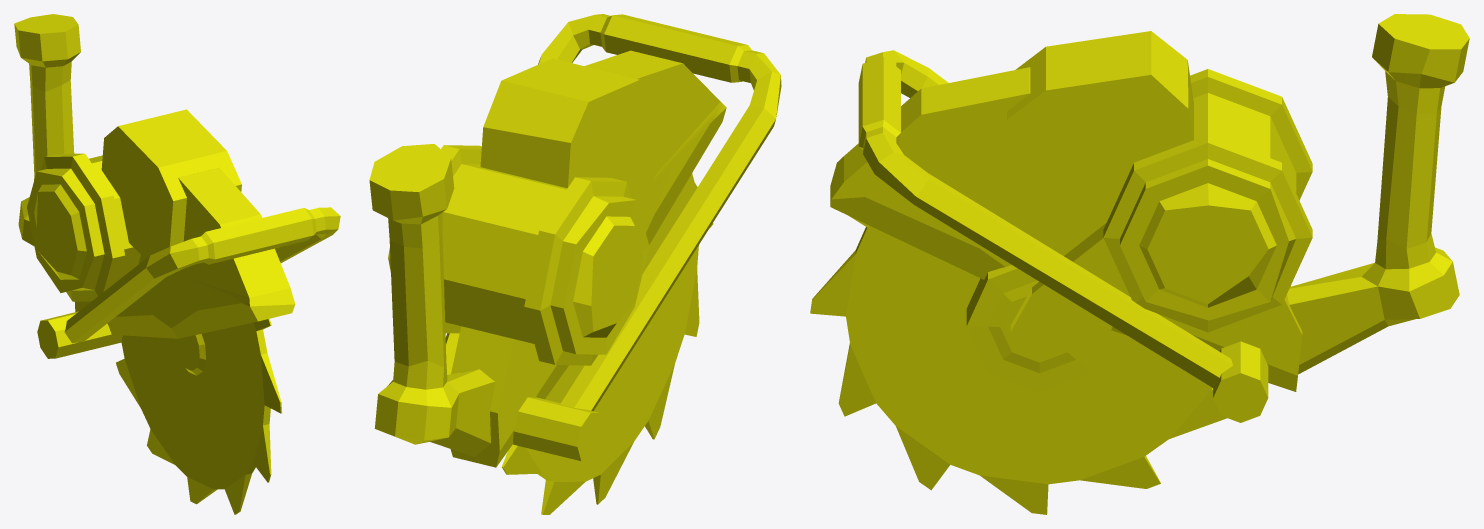
File: SM_Wep_MechanicalGolem_02.glb
3 views of the same model, side by side, from view 1: azimuth 30°, elevation 25°; view 2: azimuth 150°, elevation 25°; view 3: azimuth 270°, elevation 25° (orthographic). The views are drawn at different scales.
Parts seen in each view (by area): view 1: SM_Wep_MechanicalGolem_02, SM_Wep_MechanicalGolem_02_Blade; view 2: SM_Wep_MechanicalGolem_02, SM_Wep_MechanicalGolem_02_Blade; view 3: SM_Wep_MechanicalGolem_02, SM_Wep_MechanicalGolem_02_Blade.
Part boxes in pixels (left/top/right/bottom): SM_Wep_MechanicalGolem_02: left=14, top=14, right=340, bottom=358; SM_Wep_MechanicalGolem_02_Blade: left=116, top=318, right=282, bottom=514; SM_Wep_MechanicalGolem_02: left=369, top=14, right=781, bottom=467; SM_Wep_MechanicalGolem_02_Blade: left=501, top=173, right=713, bottom=514; SM_Wep_MechanicalGolem_02: left=830, top=14, right=1469, bottom=422; SM_Wep_MechanicalGolem_02_Blade: left=810, top=216, right=1227, bottom=514.
Size of the model in its own units: 0.5513 by 1.05 by 1.28.
